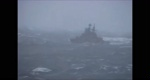tau_muctieu: (71, 25, 108, 45)
